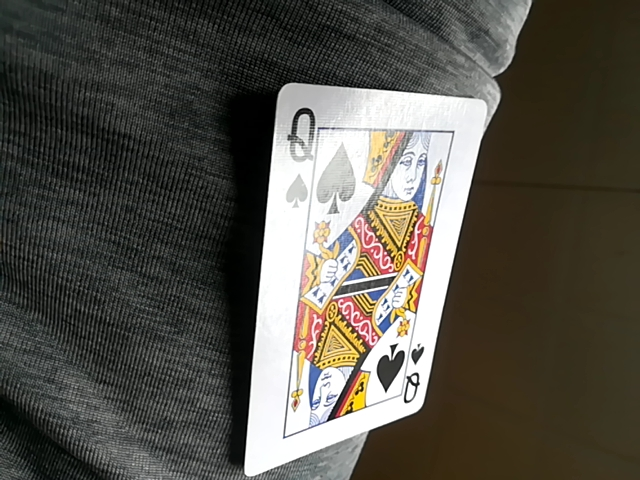ht q: (244, 80, 488, 470)
